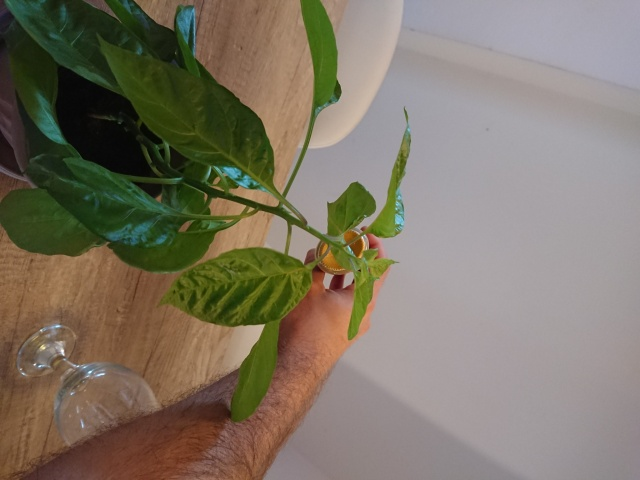Kotanyi Curry Spices Mix 70g: (313, 223, 373, 277)
